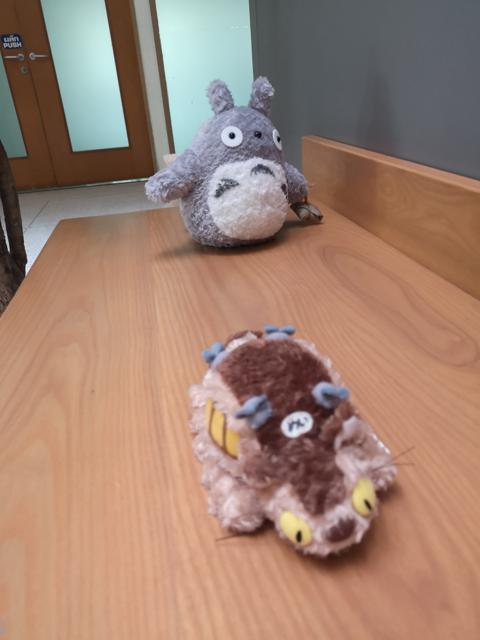nekobus: (181, 317, 420, 566)
totoro: (140, 73, 331, 257)
